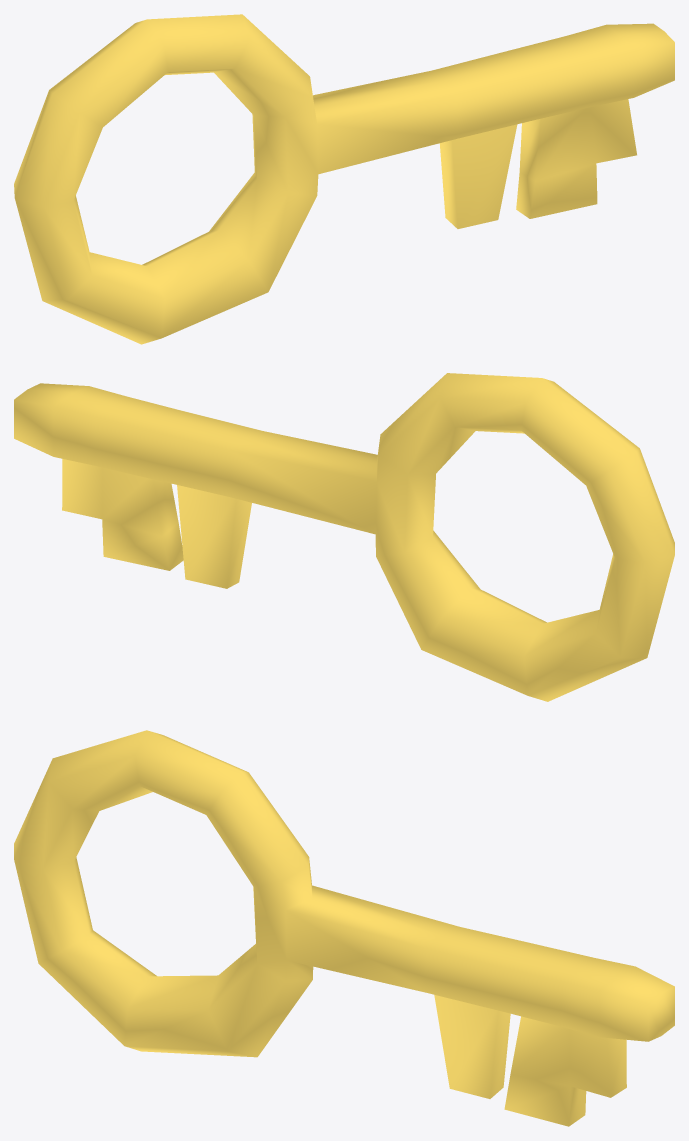
The model's file is key.glb.
3 views of the same model, one above another, from view 1: azimuth 30°, elevation 25°; view 2: azimuth 150°, elevation 25°; view 3: azimuth 330°, elevation 25° (orthographic).
Visible parts, largest first — view 1: Object_2; view 2: Object_2; view 3: Object_2.
Boxes of the visible parts, x1,y1,x2,y2 form: Object_2: (14, 14, 674, 344); Object_2: (14, 373, 674, 701); Object_2: (14, 730, 674, 1126).
Bounding box in the file's own units: 0.7287 × 0.3463 × 0.0773.
Materials: 1 (1 with a texture image).
